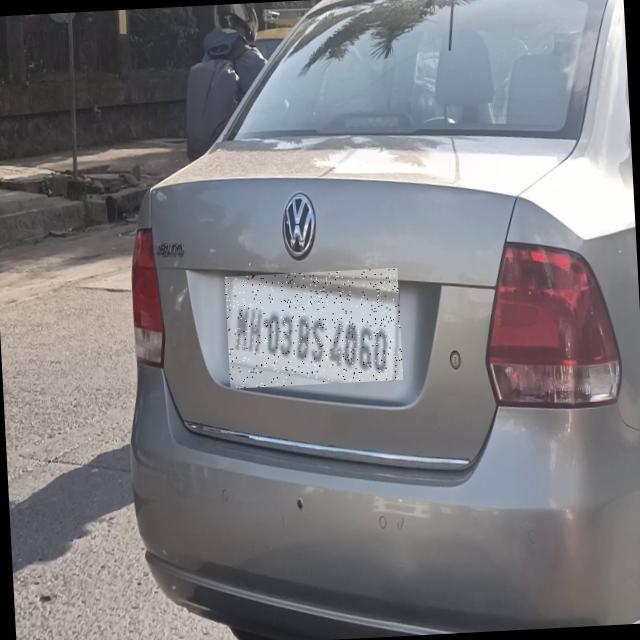Plate: (226, 269, 405, 390)
